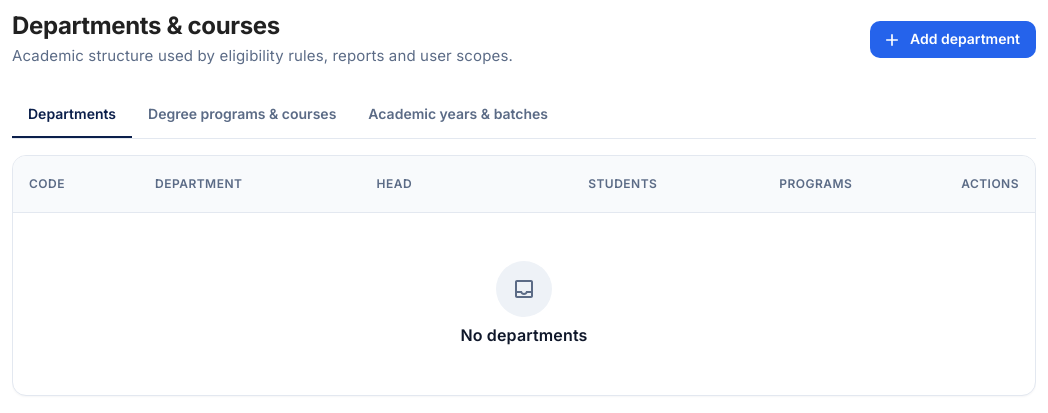
academic overview › shows empty states when nothing is configured
Expected: the heading "No departments" is shown, [460, 325, 588, 347]
Click the tab "Degree programs & courses": (242, 113) [132, 91, 352, 135]
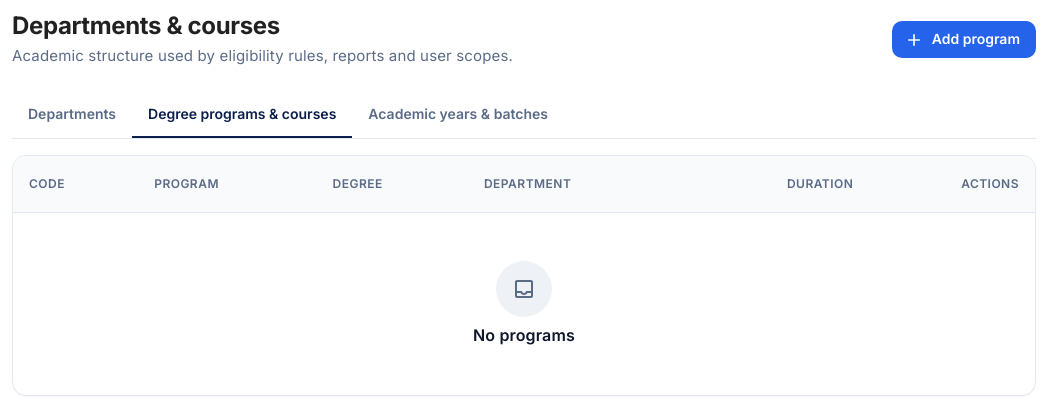
Now the heading "No programs" is shown, box [473, 325, 575, 347]
